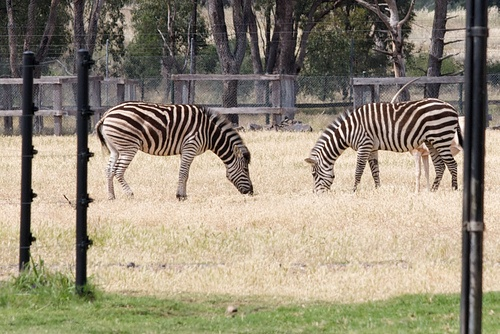zebra: (176, 151, 336, 247), (384, 145, 500, 239)
